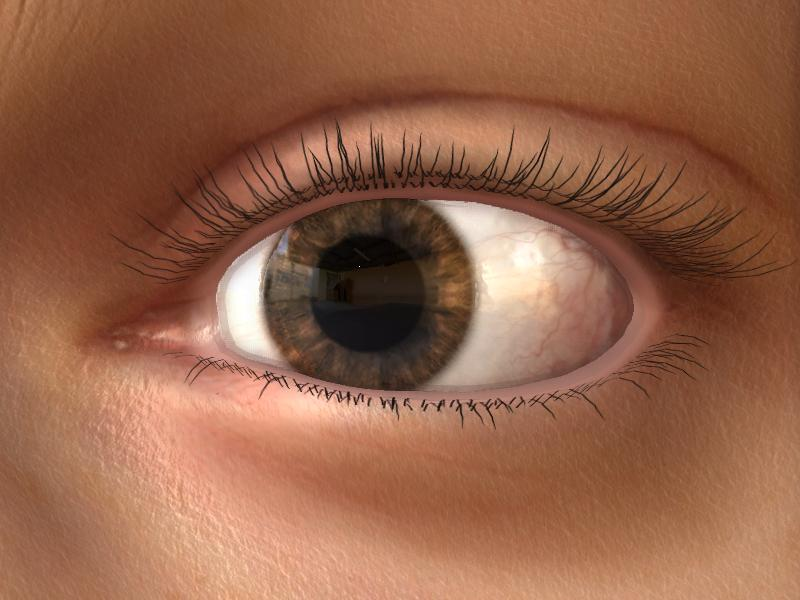eye: (265, 197, 482, 392)
